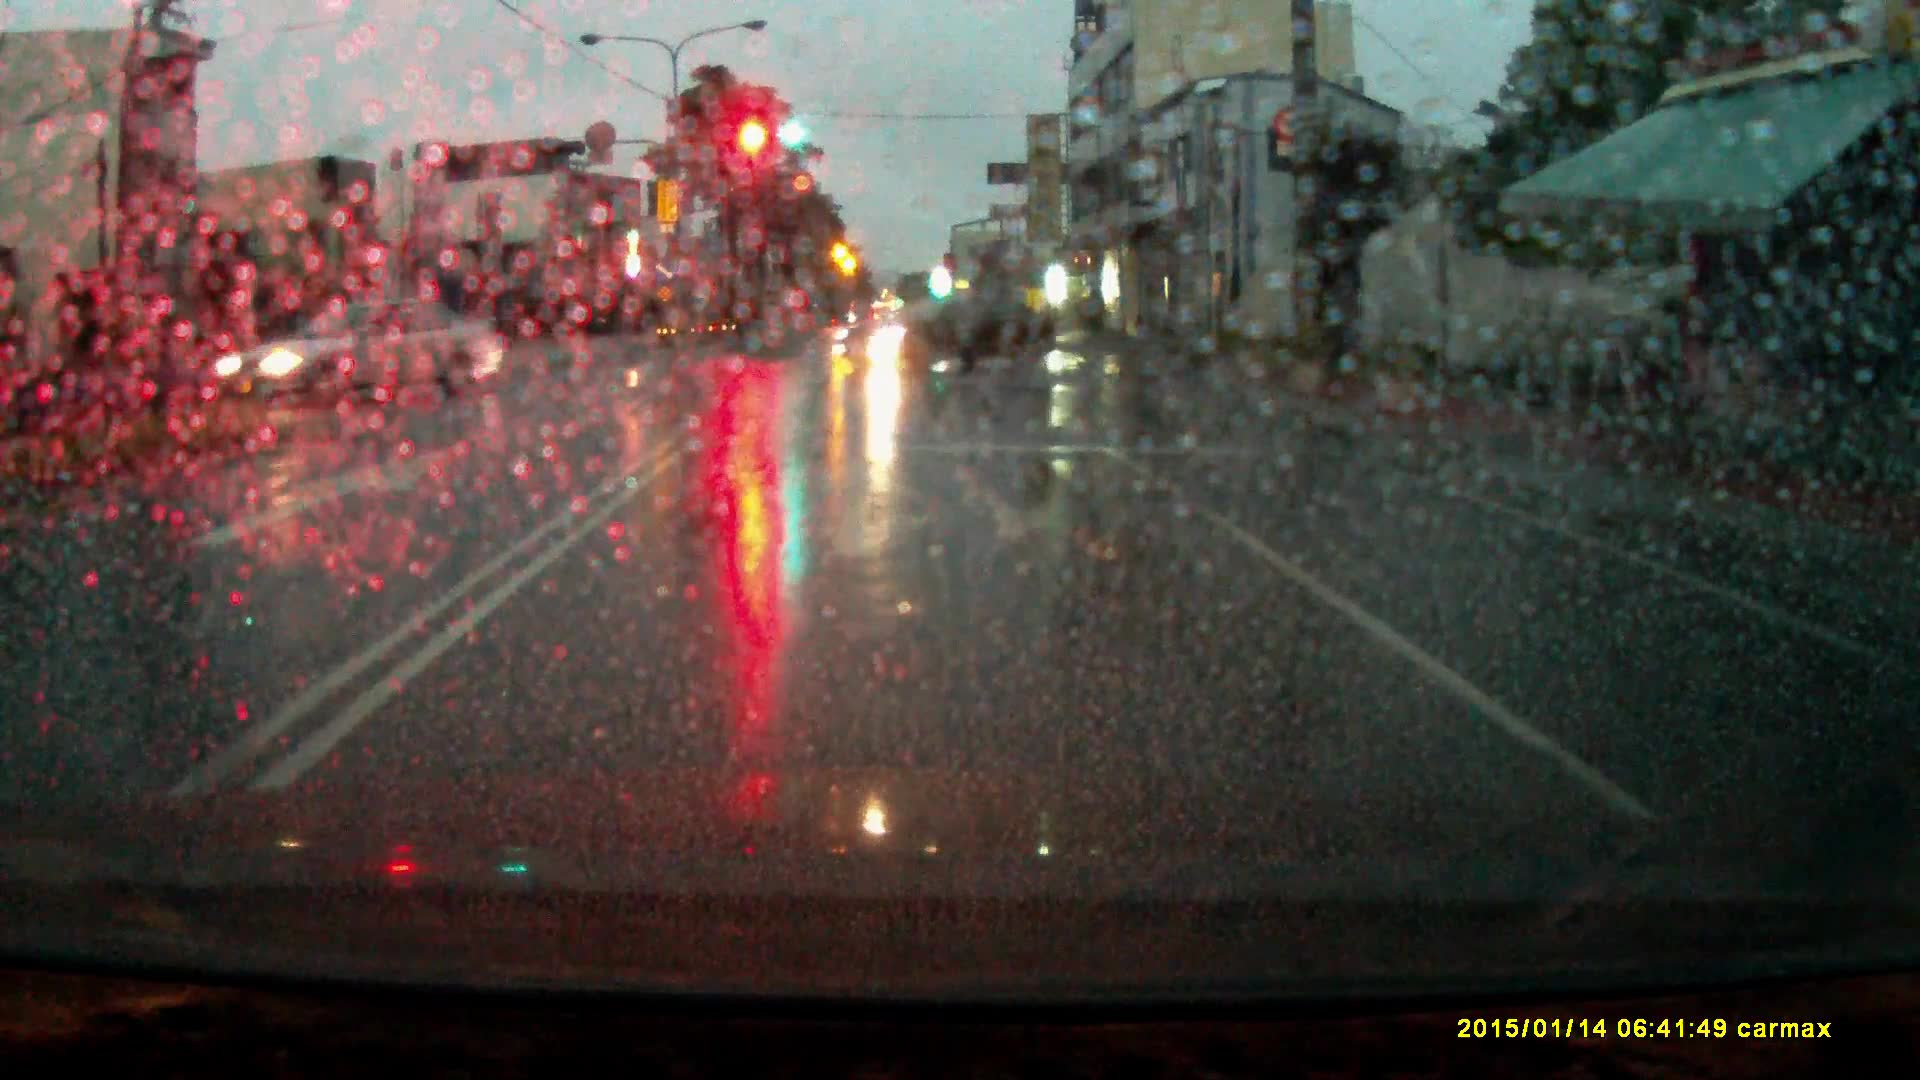vehicle: (208, 298, 509, 400), (836, 289, 1062, 375)
